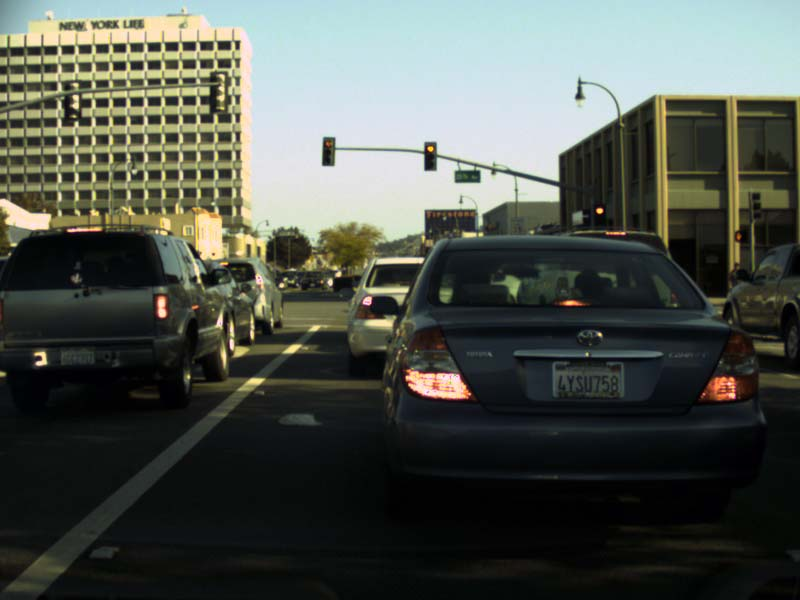Red: (322, 137, 335, 165), (424, 142, 436, 170), (594, 203, 605, 232)
